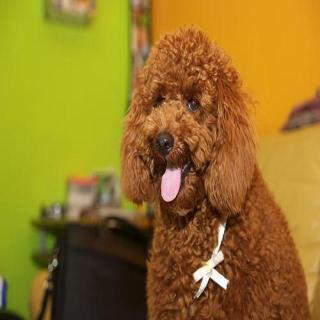dog: (116, 20, 253, 234)
nose: (153, 130, 177, 157)
